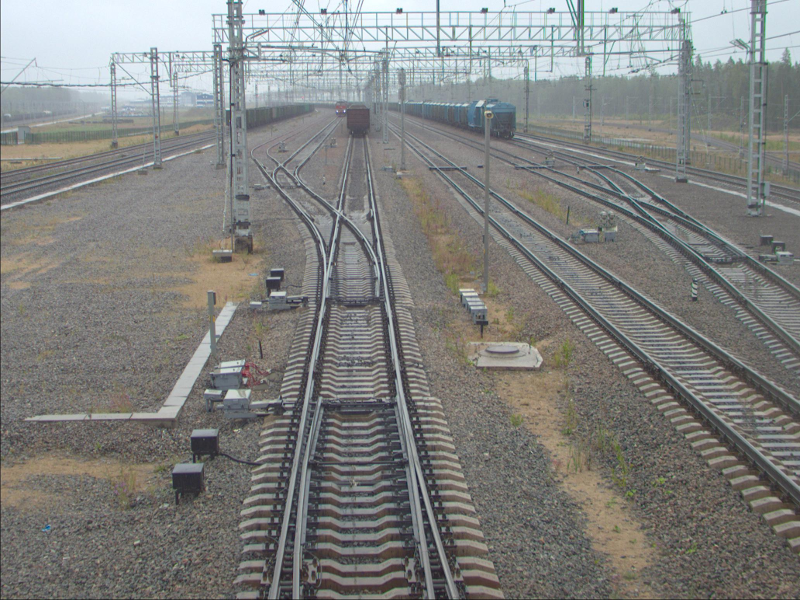right: (319, 258, 394, 302)
